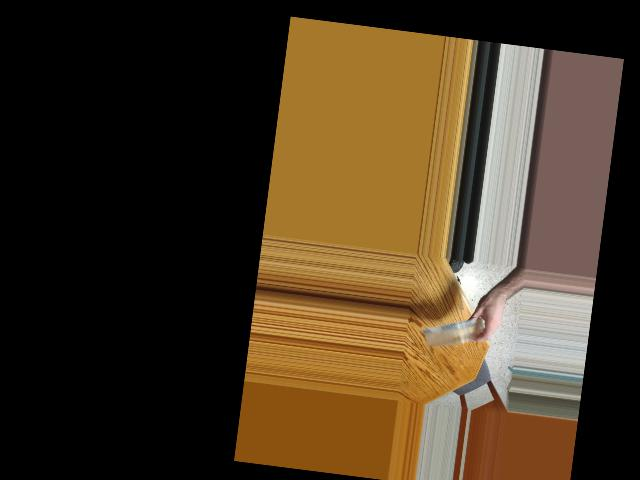cheese: (420, 317, 491, 350)
